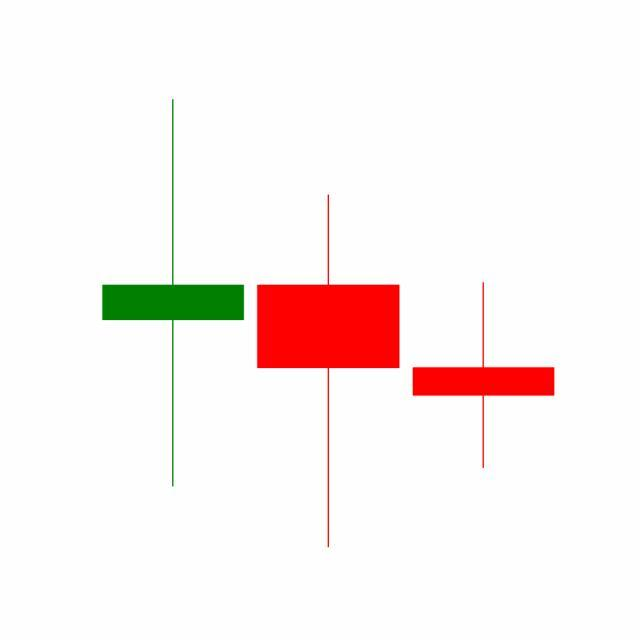Spinning Top: (250, 192, 407, 553)
